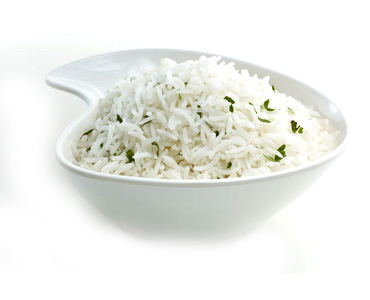plain rice: (123, 69, 283, 160)
